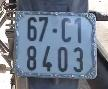0: (57, 44, 69, 76)
1: (75, 14, 83, 46)
3: (70, 45, 87, 74)
4: (40, 42, 55, 72)
6: (26, 15, 38, 43)
7: (39, 13, 50, 44)
8: (24, 43, 38, 73)
C: (59, 17, 74, 45)
